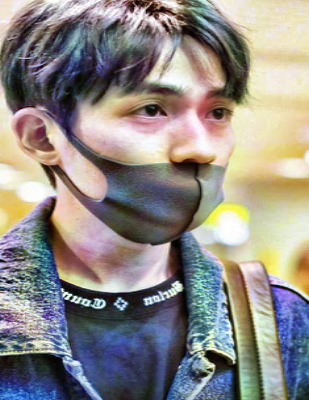mask_weared_incorrect: (78, 80, 239, 247)
